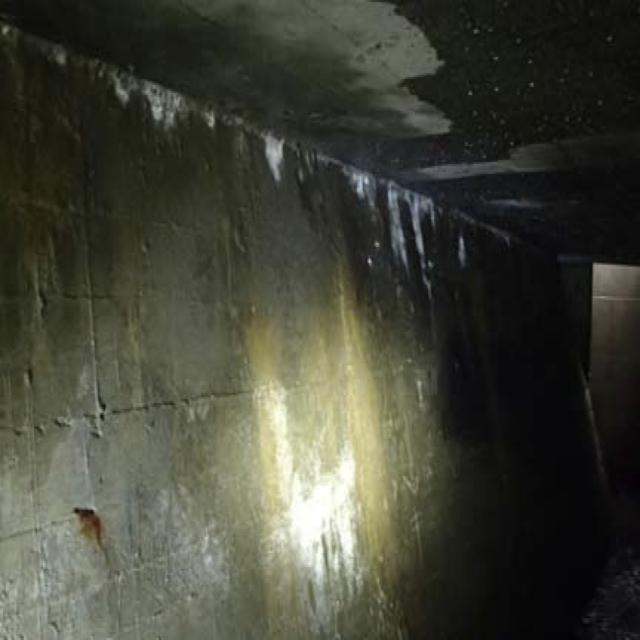freelime: (94, 50, 289, 187), (266, 388, 368, 606), (346, 153, 443, 287)
